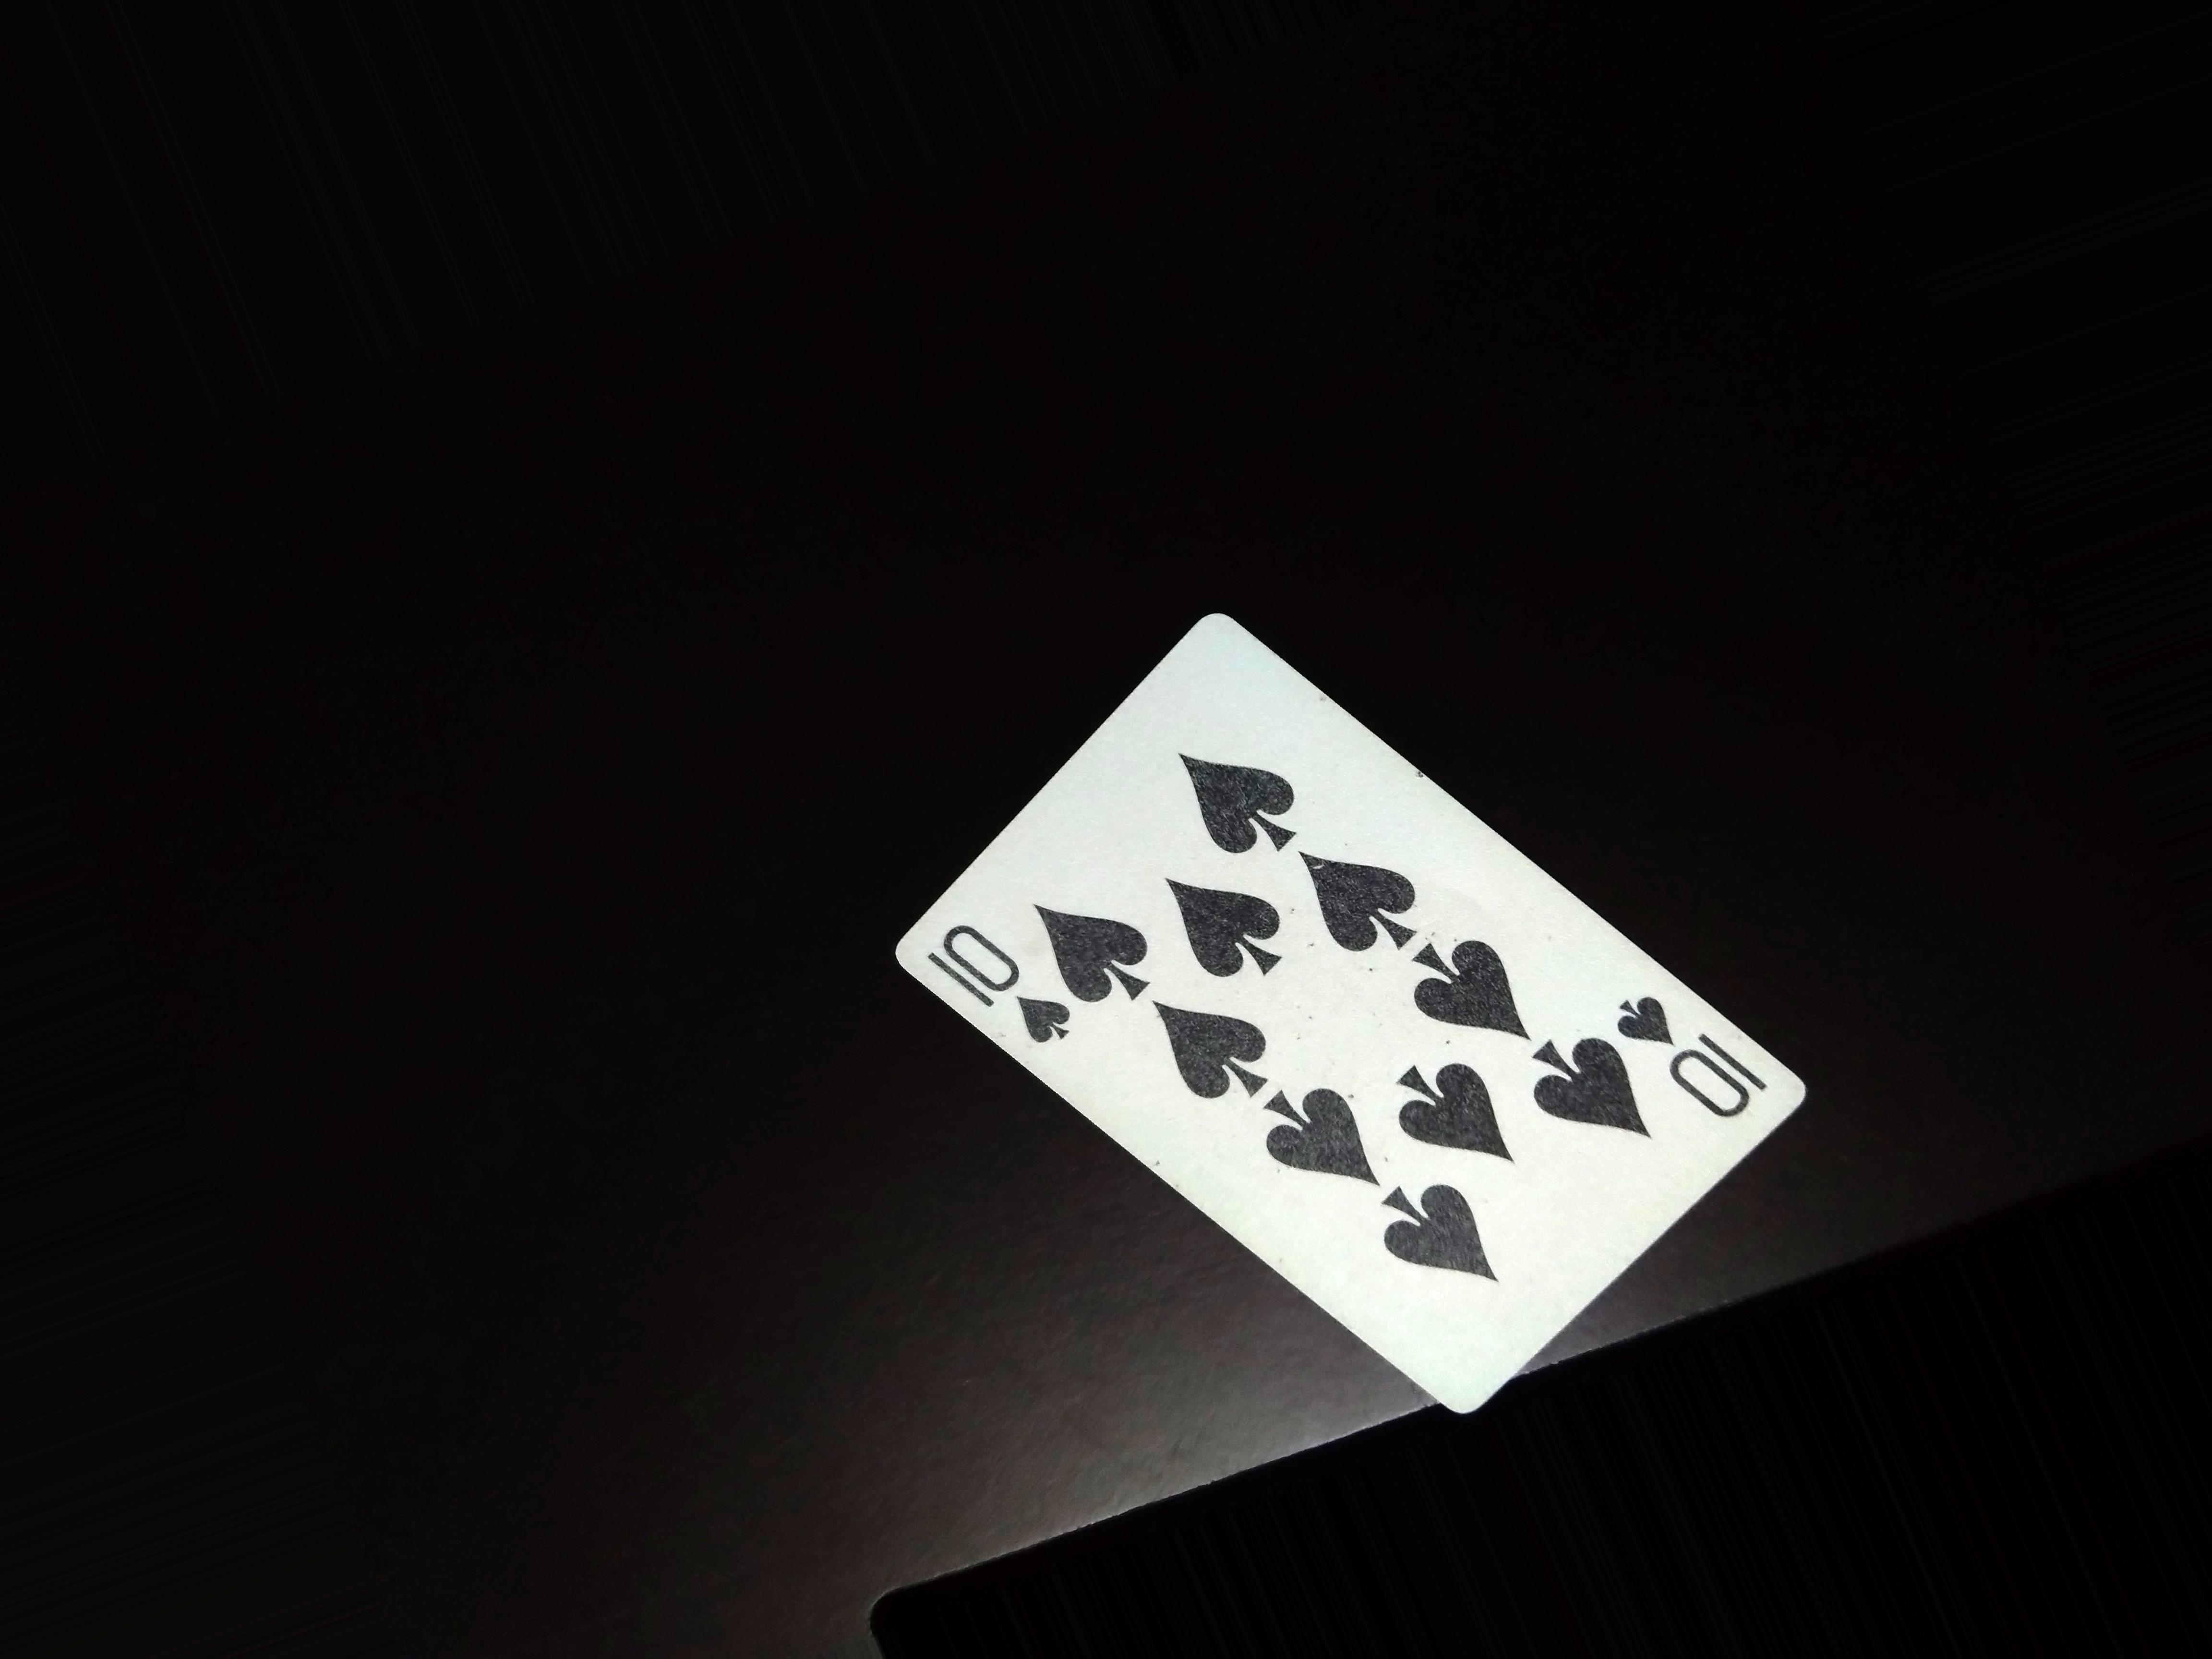10S: (918, 918, 1078, 1040)
